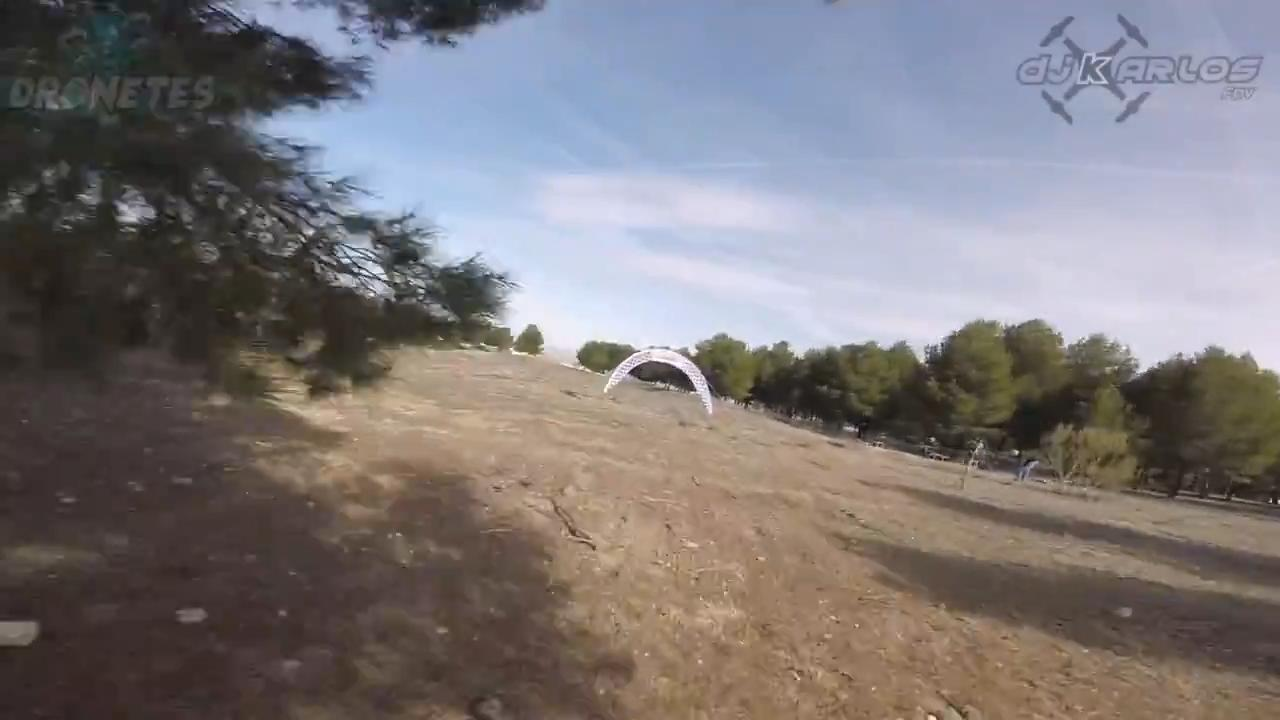gate: (601, 345, 716, 423)
